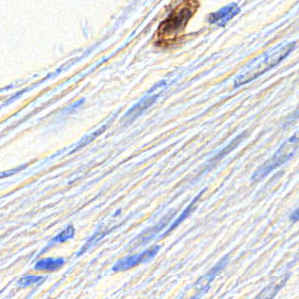Lymphocyte: (154, 1, 198, 41)
